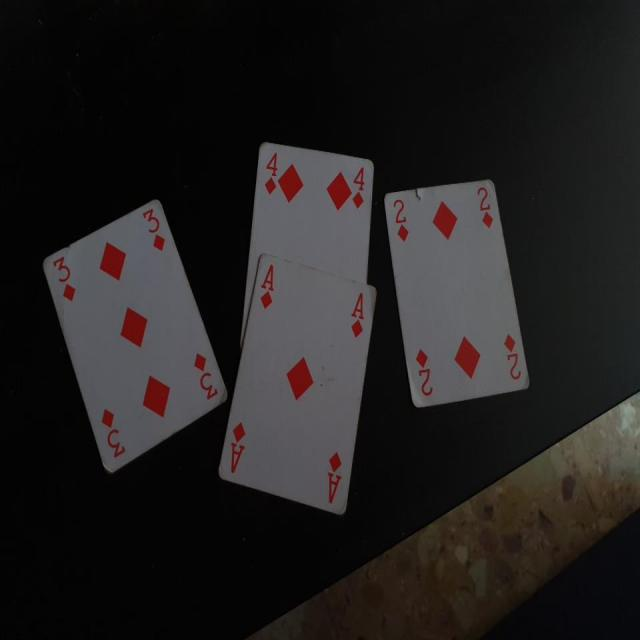2 Diamonds: (381, 180, 533, 412)
3 Diamonds: (40, 200, 231, 491)
4 Diamonds: (235, 139, 376, 333)
A Diamonds: (218, 257, 380, 518)
